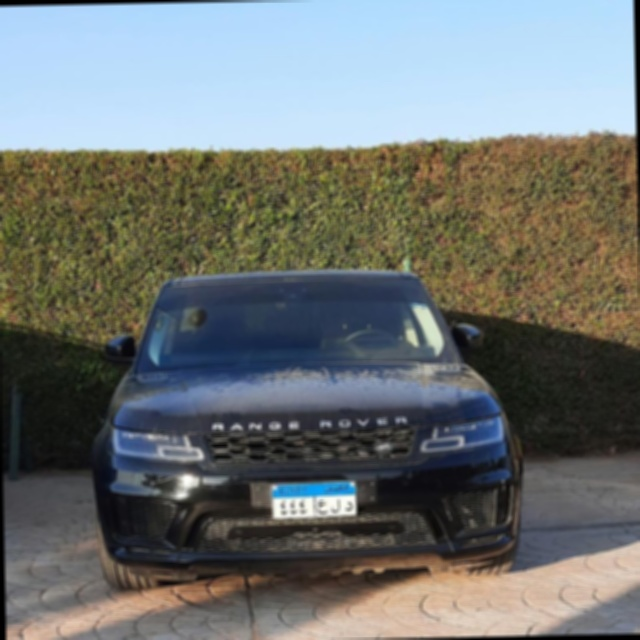License Plate: (271, 480, 358, 520)
